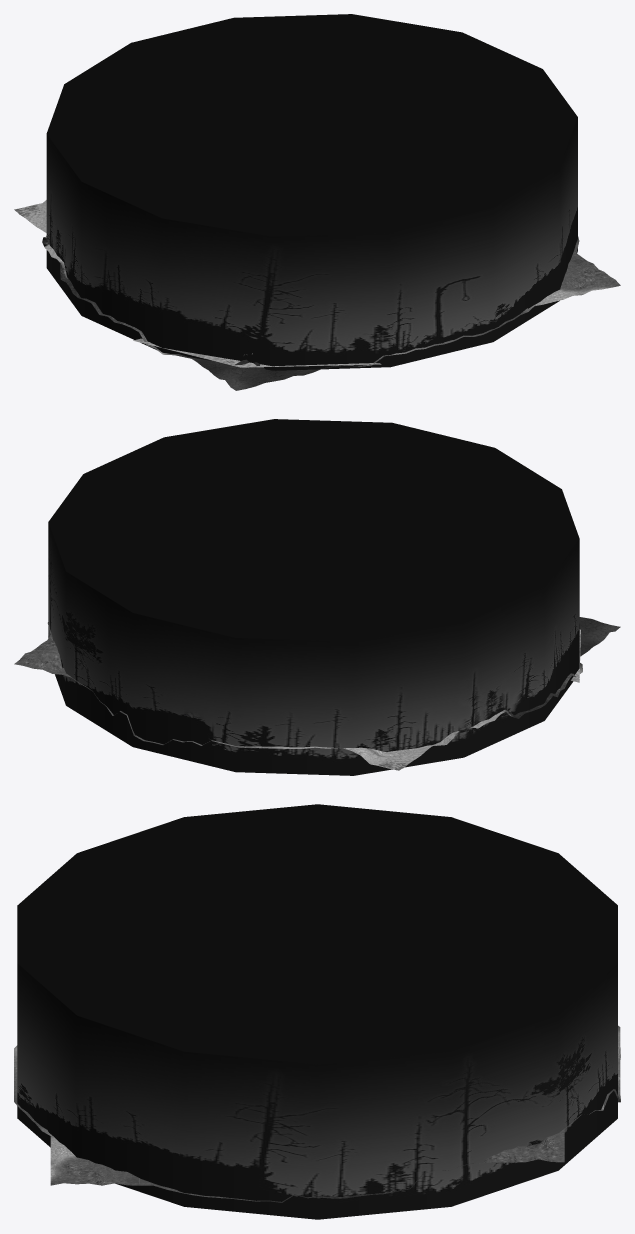
Rendered from creepy_house_wip.glb.
3 views of the same model, one above another, from view 1: azimuth 30°, elevation 25°; view 2: azimuth 150°, elevation 25°; view 3: azimuth 270°, elevation 25° (orthographic). The views are drawn at different scales.
Visible parts, largest first — view 1: Cylinder016, Landscape, Pond; view 2: Cylinder016, Landscape; view 3: Cylinder016, Landscape.
Boxes of the visible parts, x1,y1,x2,y2 form: Cylinder016: (46,14,577,370); Landscape: (14,200,620,390); Pond: (133,338,381,367); Cylinder016: (48,419,579,775); Landscape: (14,617,620,770); Cylinder016: (17,804,617,1219); Landscape: (14,1025,620,1202).
Size of the model in its own units: 4350 by 1212 by 4254.
27 materials, 24 textured.
